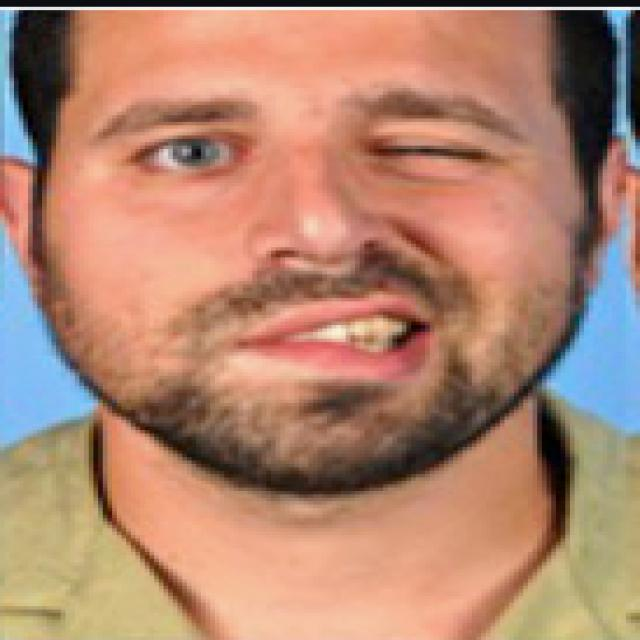stroke_face: (13, 0, 611, 503)
